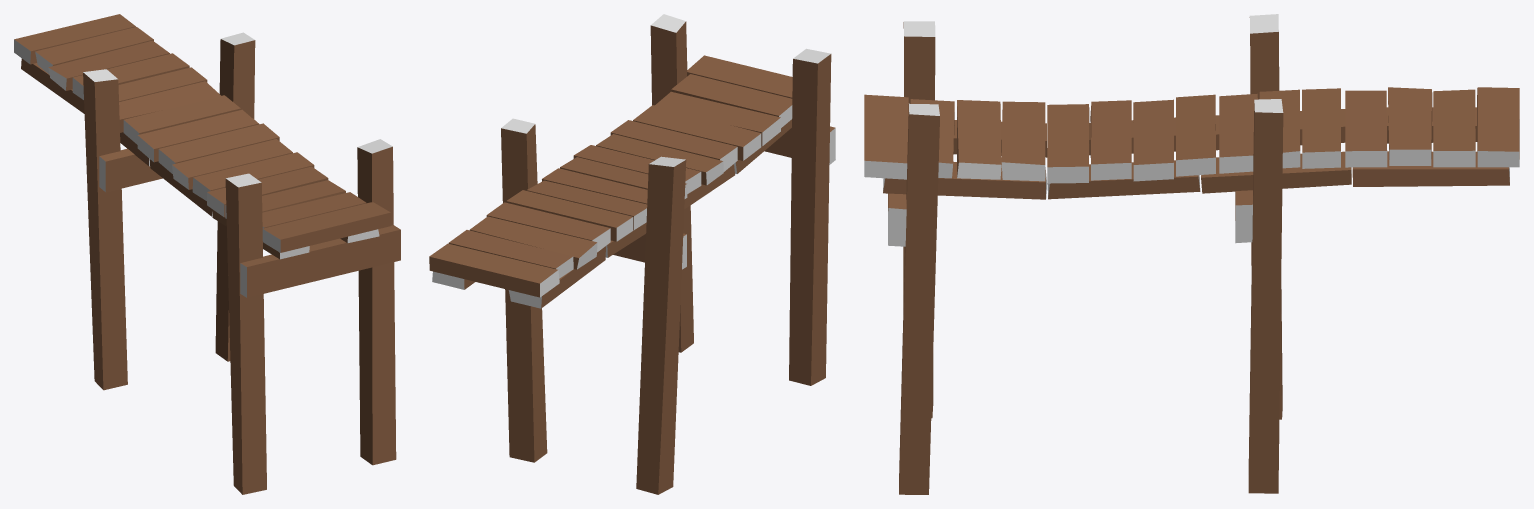
File: DockJetty.fbx
3 renders of one model, left to right at view 1: azimuth 30°, elevation 25°; view 2: azimuth 150°, elevation 25°; view 3: azimuth 270°, elevation 25°, orthographic. The views are drawn at different scales.
Visible parts, largest first — view 1: Dock Jetty; view 2: Dock Jetty; view 3: Dock Jetty.
Boxes of the visible parts, x1=… form: Dock Jetty: x1=14, y1=14, x2=400, y2=494; Dock Jetty: x1=429, y1=14, x2=835, y2=494; Dock Jetty: x1=864, y1=14, x2=1519, y2=494.
Size of the model in its own units: 318 by 586 by 903.
